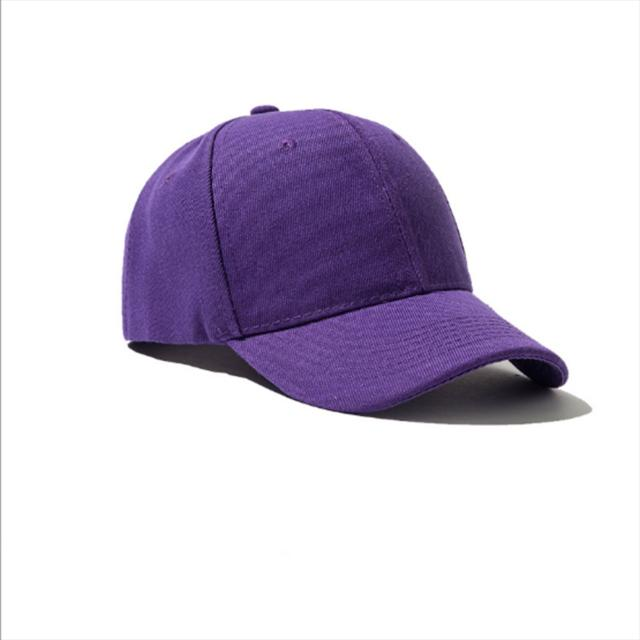no_helmet: (122, 105, 568, 413)
